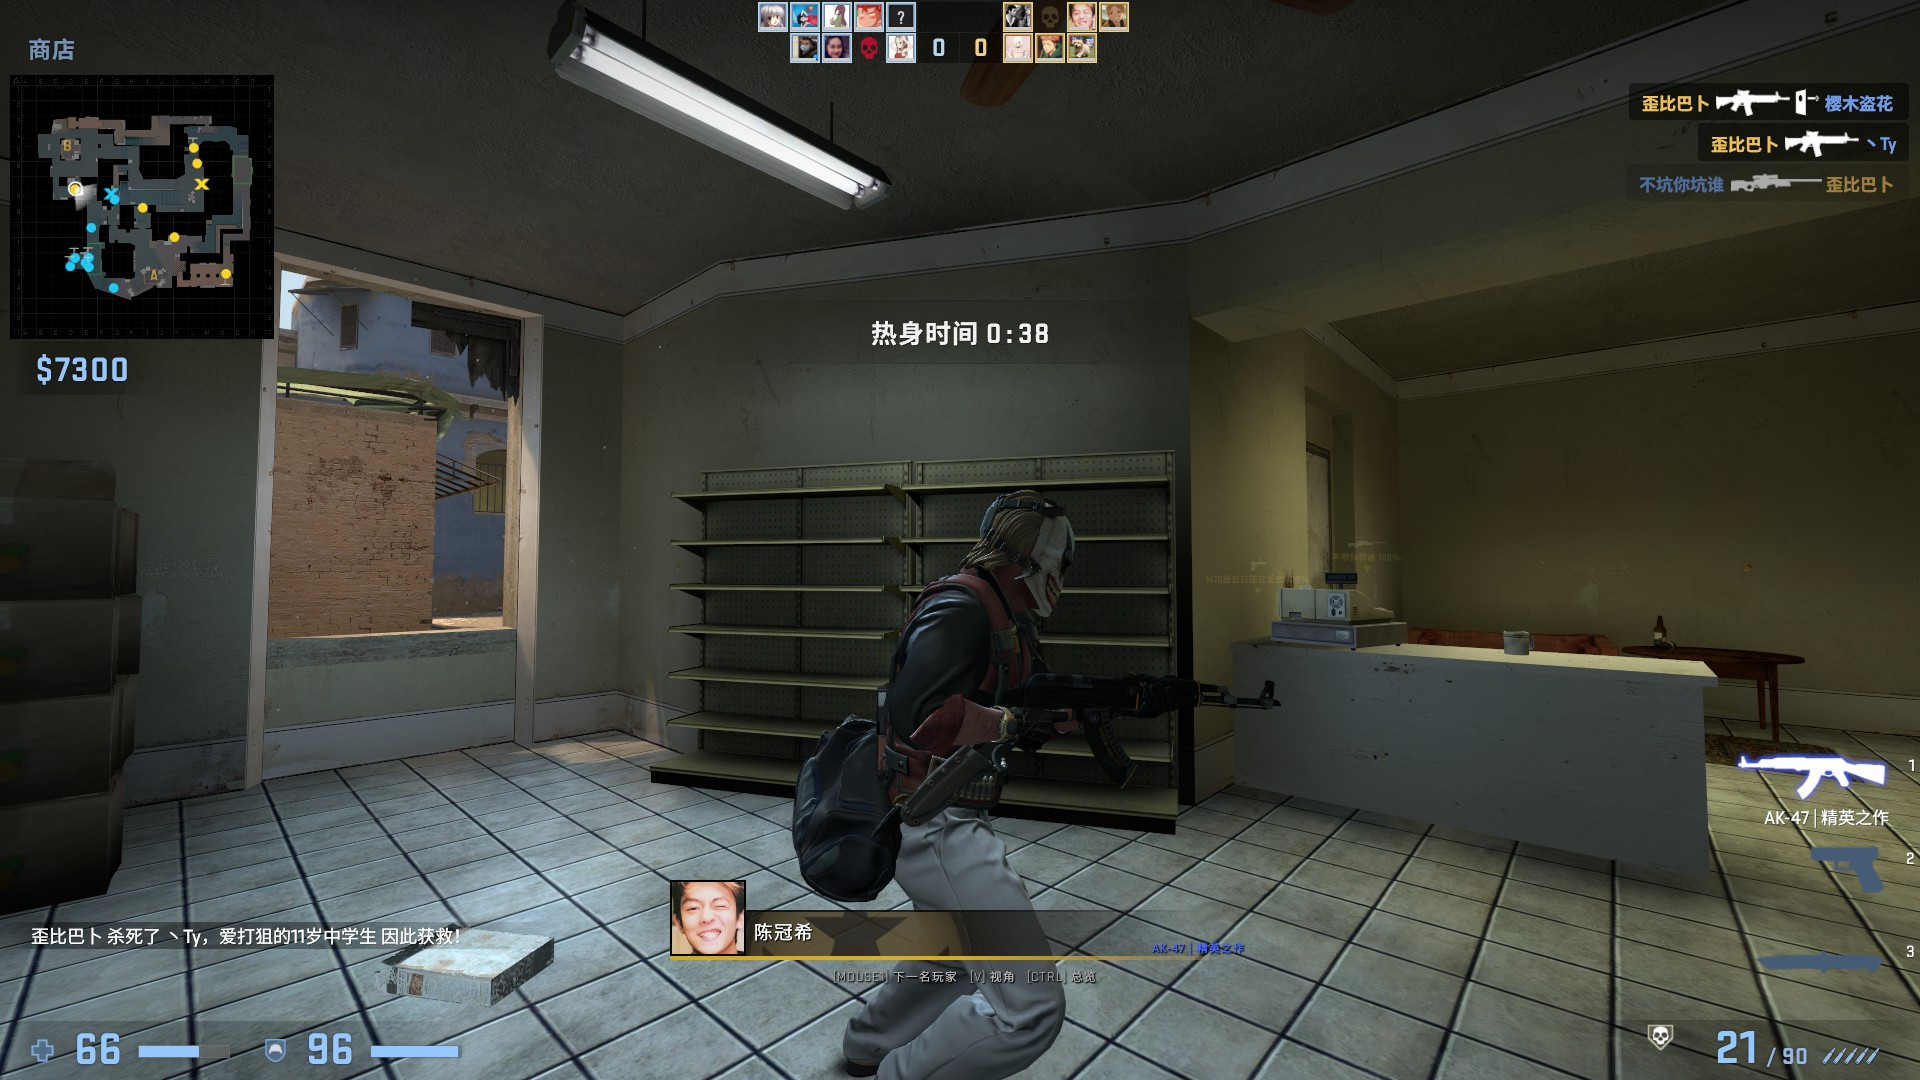head: (973, 485, 1076, 620)
